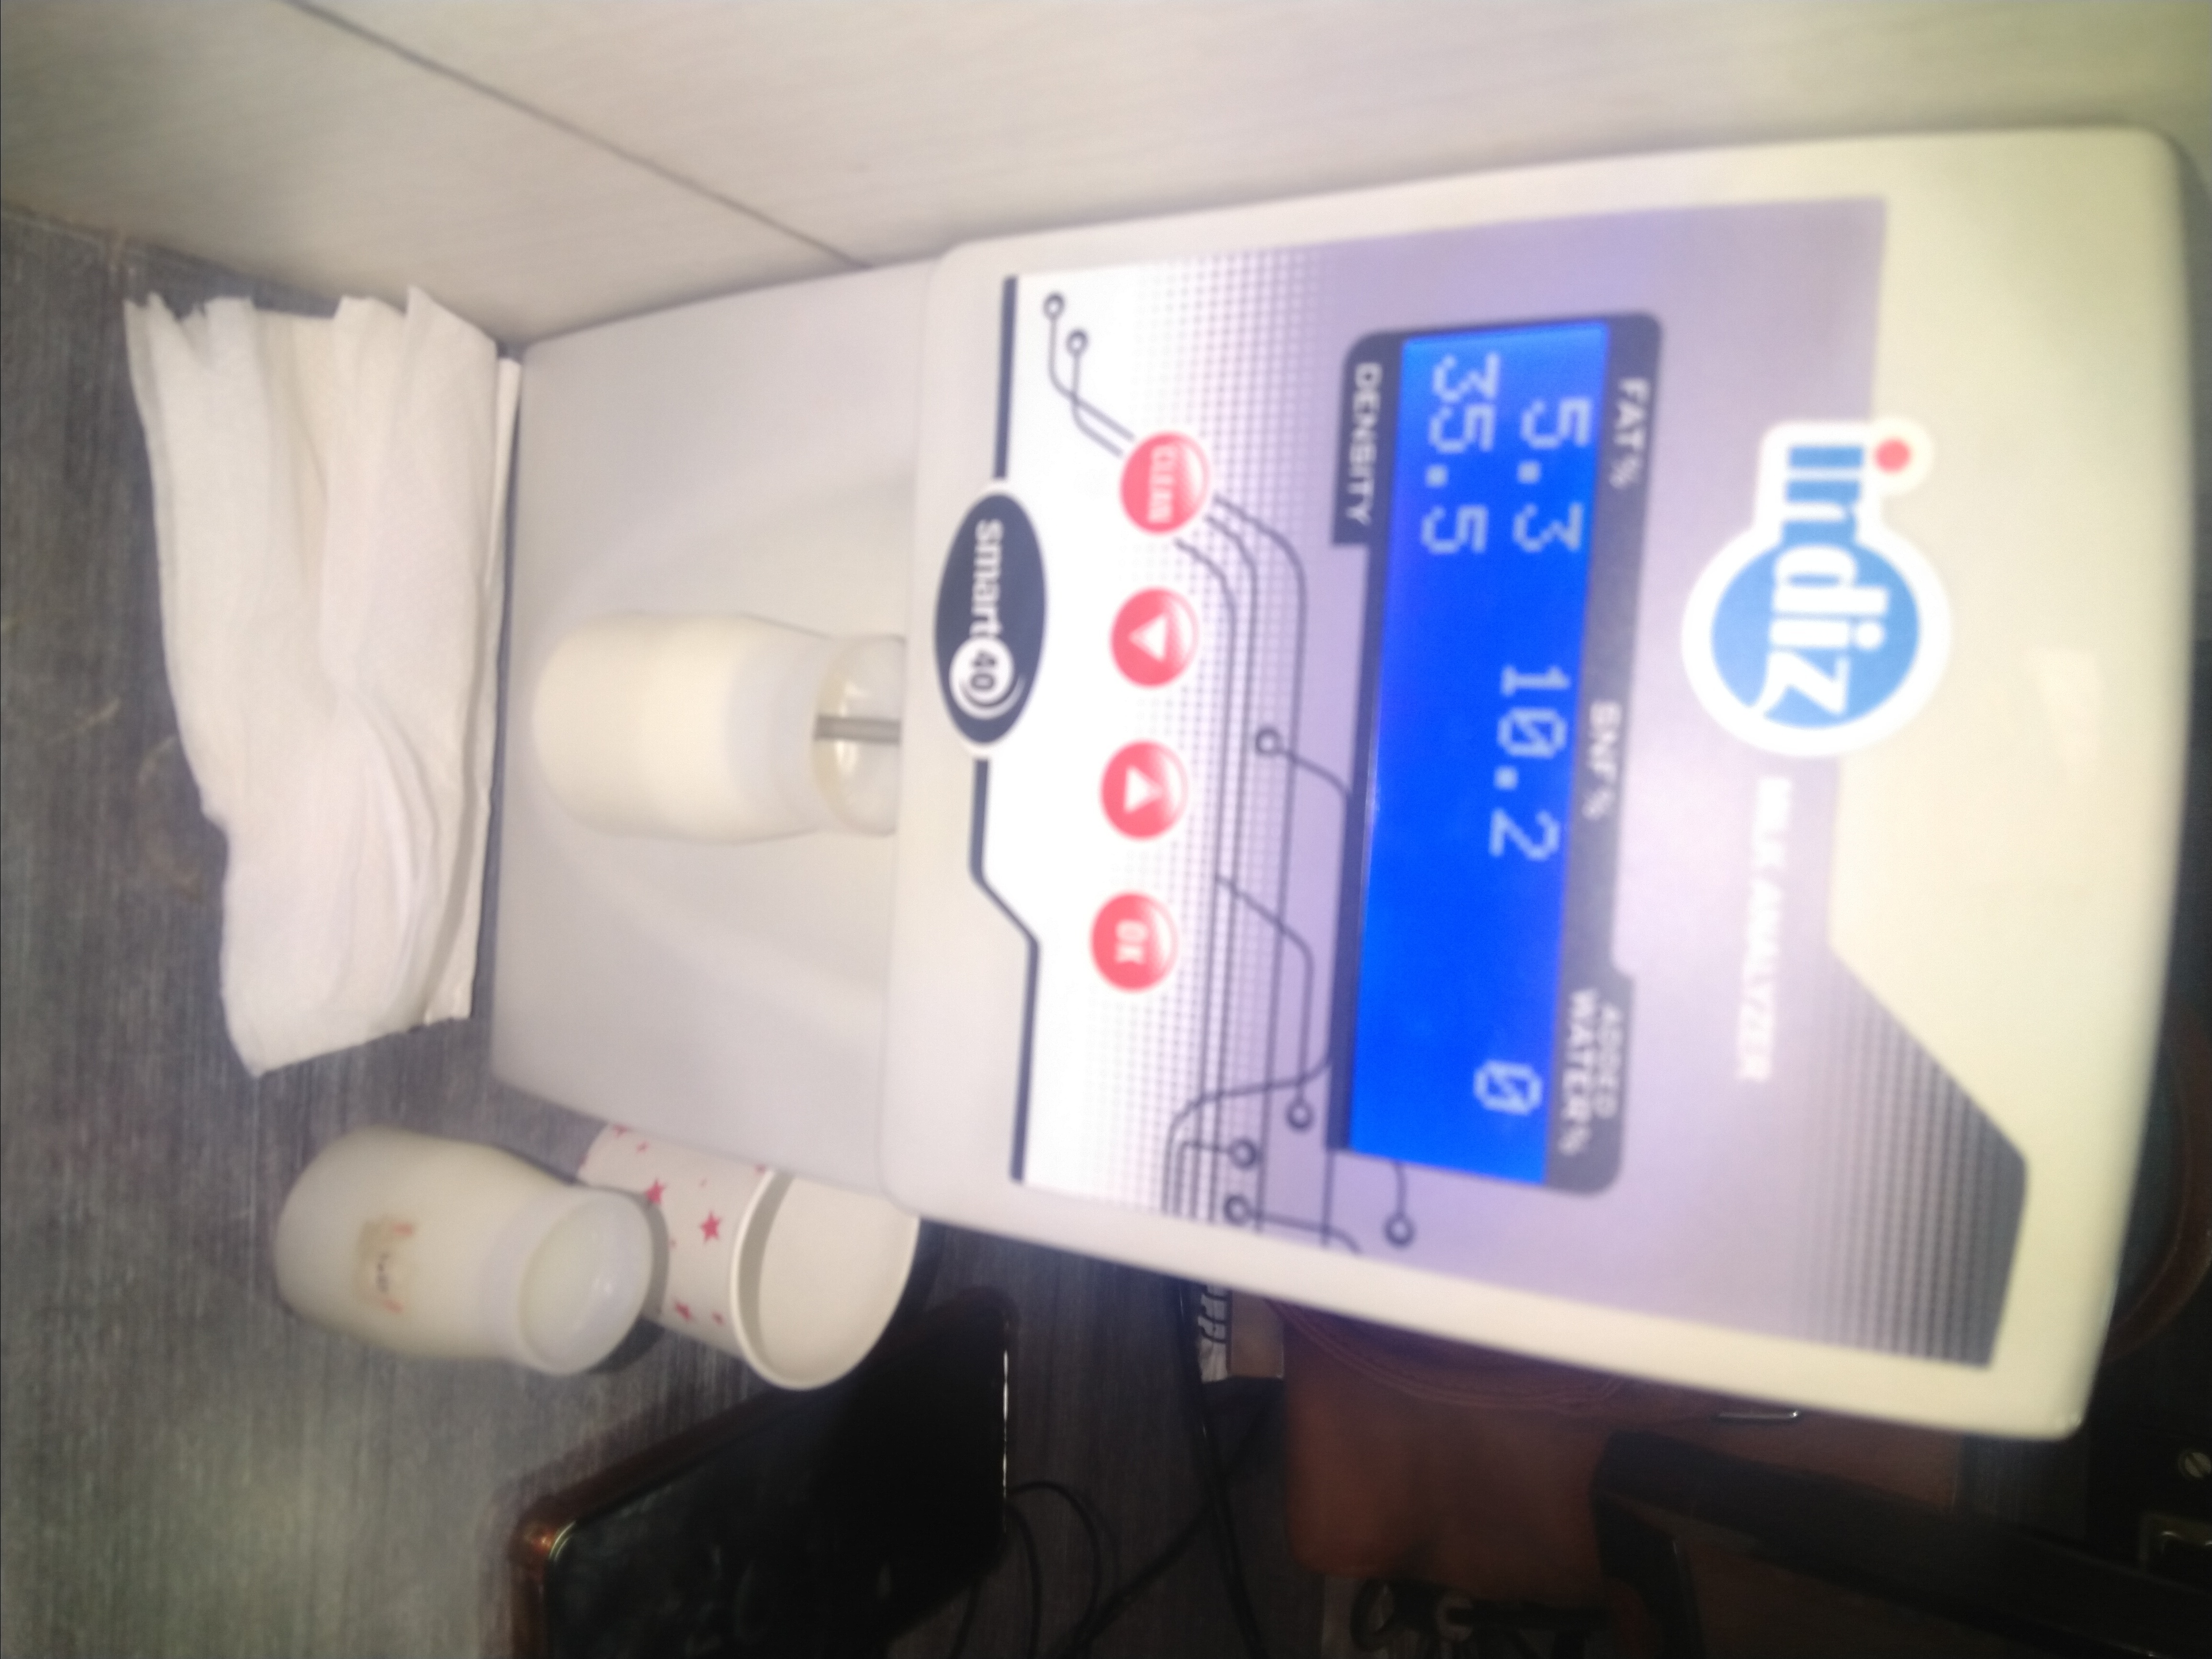lcd: (1315, 303, 1676, 1206)
